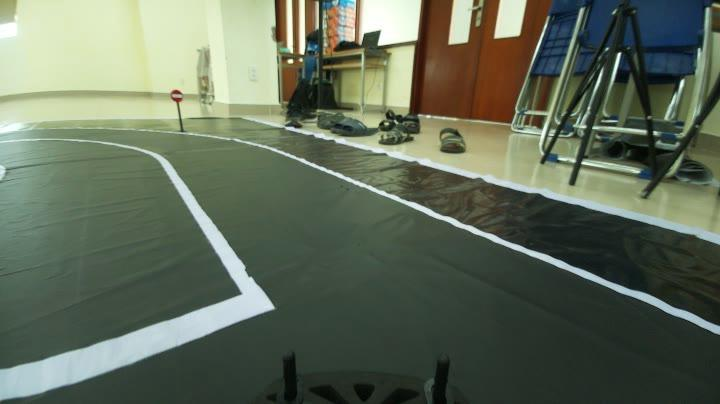no_entry: (170, 86, 185, 102)
